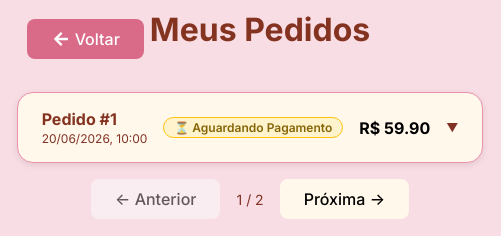
it: MeusPedidos — paginação › clicar em "Próxima" deve carregar a próxima página
The width and height of the screenshot is (501, 236).
Step 1. Click the button "Próxima →" → (344, 199), box [280,179,409,219]
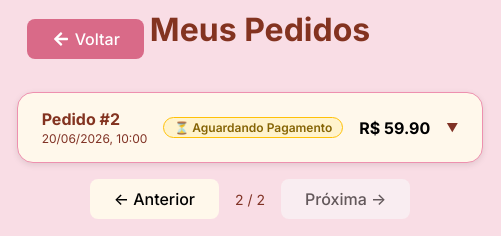
Check: the text "2 / 2" is shown, box [235,190,265,208]
